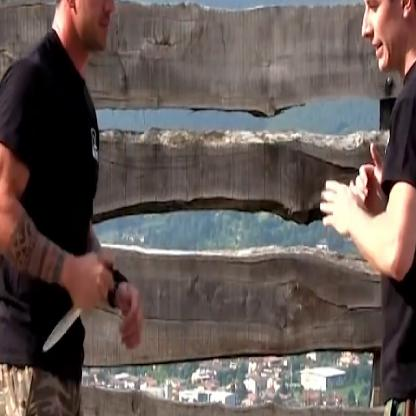knife: (38, 251, 116, 355)
